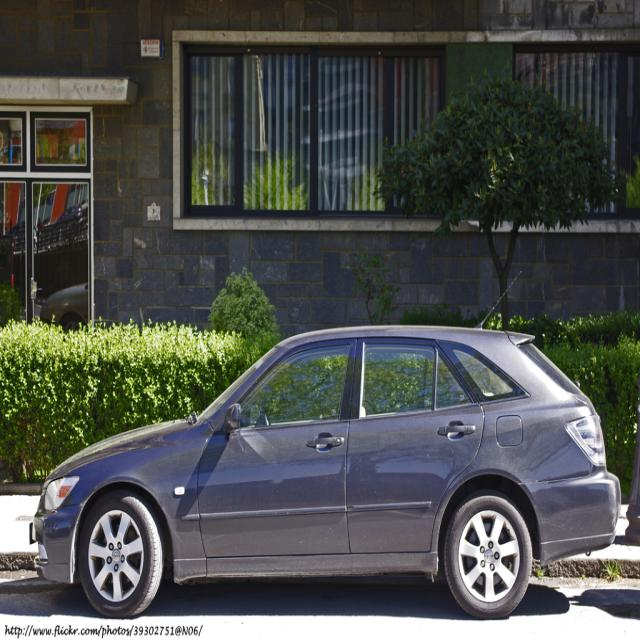car: (28, 267, 624, 619)
